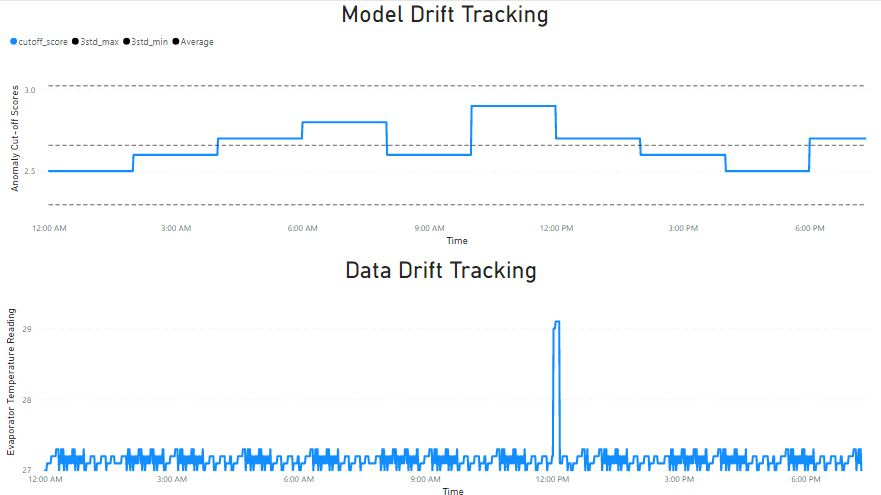

The page's visual inventory and layout, read from the dashboard file:
{"tool":"powerbi","page":{"name":"drift","canvas":[1280,720],"ordinal":0},"visuals":[{"type":"lineChart","title":"Model Drift Tracking","fields":{"Category":["score_cutoff.timestamp"],"Y":["Sum(score_cutoff.score_cutoff)","score_cutoff.Ymax","score_cutoff.Ymin","score_cutoff.Average"]},"box":[0,0,1266.9,359.3],"z":0},{"type":"lineChart","title":"Data Drift Tracking","fields":{"Y":["Sum(data.EvaporatorTemperature)"],"Category":["data.timestamp"]},"box":[1.4,369.4,1265.4,350.6],"z":1}]}

Visuals, with their boxes in screenshot pixels (x1, y1, x2, y2), scaled from the page's 1280x720 canvas onto the 881x495 screenshot:
"Model Drift Tracking" lineChart: bbox(0, 0, 872, 247)
"Data Drift Tracking" lineChart: bbox(1, 254, 872, 494)
